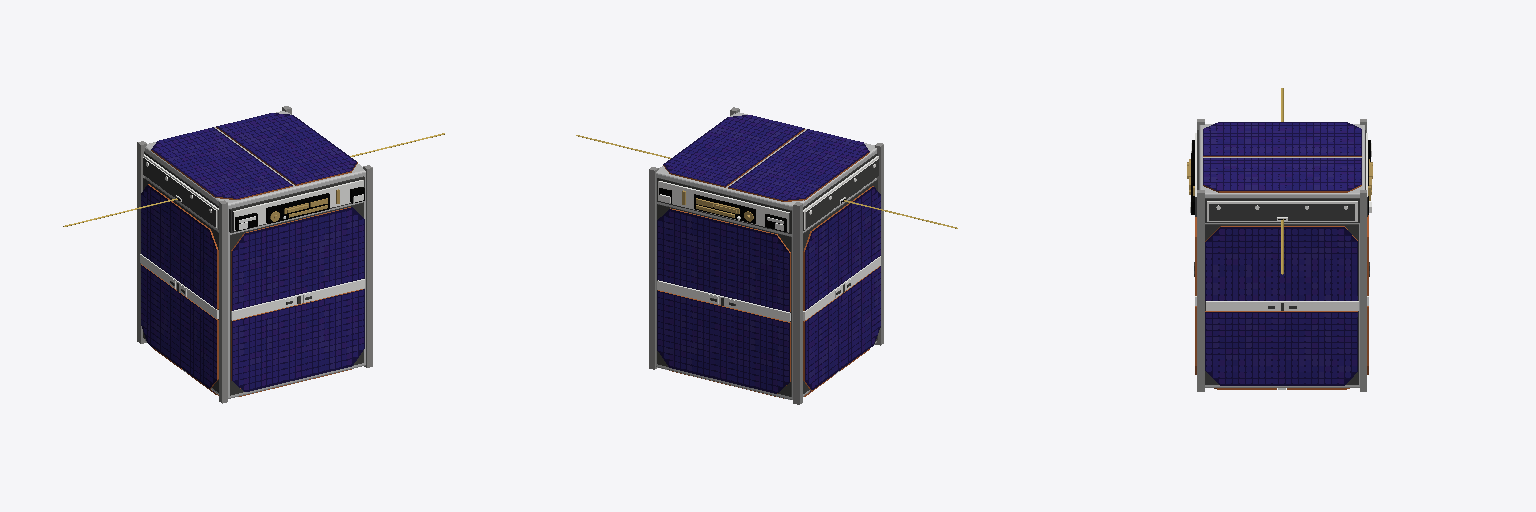
The model's file is Cubesat1RU.obj.
3 renders of one model, left to right at view 1: azimuth 30°, elevation 25°; view 2: azimuth 150°, elevation 25°; view 3: azimuth 270°, elevation 25°, orthographic.
Visible parts, largest first — view 1: Cubesat1RU; view 2: Cubesat1RU; view 3: Cubesat1RU.
Boxes of the visible parts, <box> form: Cubesat1RU: <box>63,106,444,403</box>; Cubesat1RU: <box>576,107,957,404</box>; Cubesat1RU: <box>1187,88,1372,391</box>.
Bounding box in the file's own units: 2.08 × 1.04 × 0.8788.